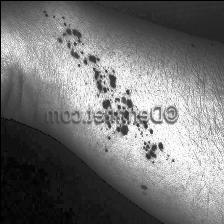Potentially Malignant Skin Tumors: (55, 24, 81, 52), (140, 141, 162, 166)
